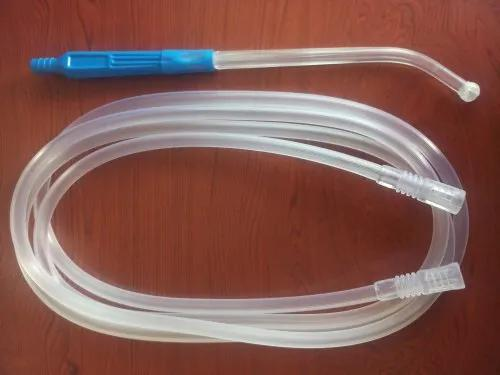Suction Tube Nozzle: (13, 42, 488, 356)
